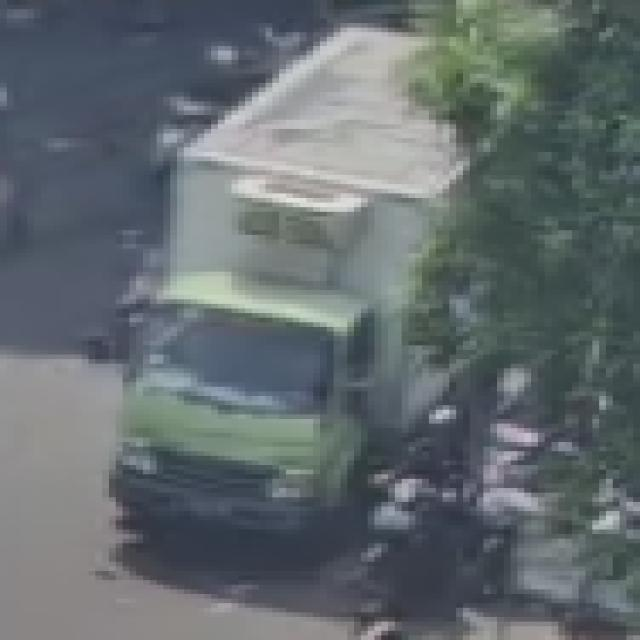truck: (84, 165, 426, 552)
